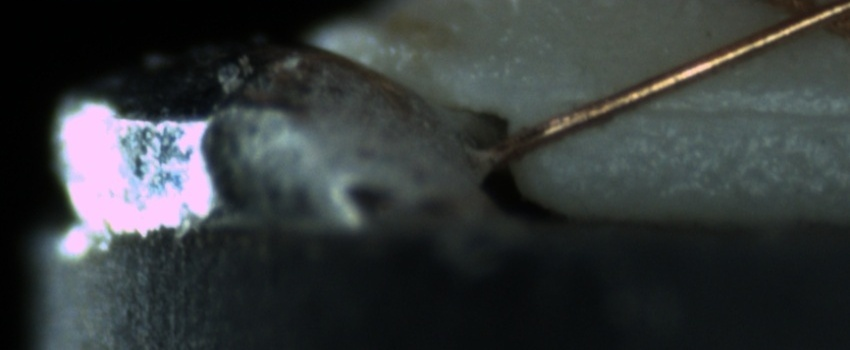CL: (761, 1, 846, 42)
DL: (576, 77, 844, 145)
